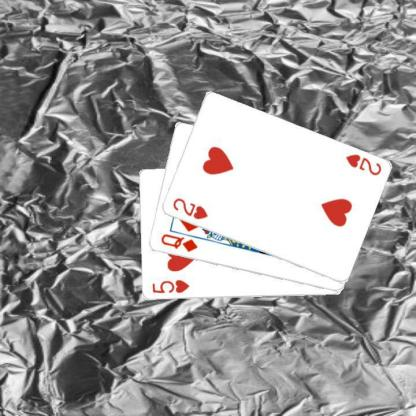2H: (342, 151, 382, 177), (170, 195, 209, 221)
5H: (149, 278, 190, 295)
QD: (158, 231, 198, 254)
